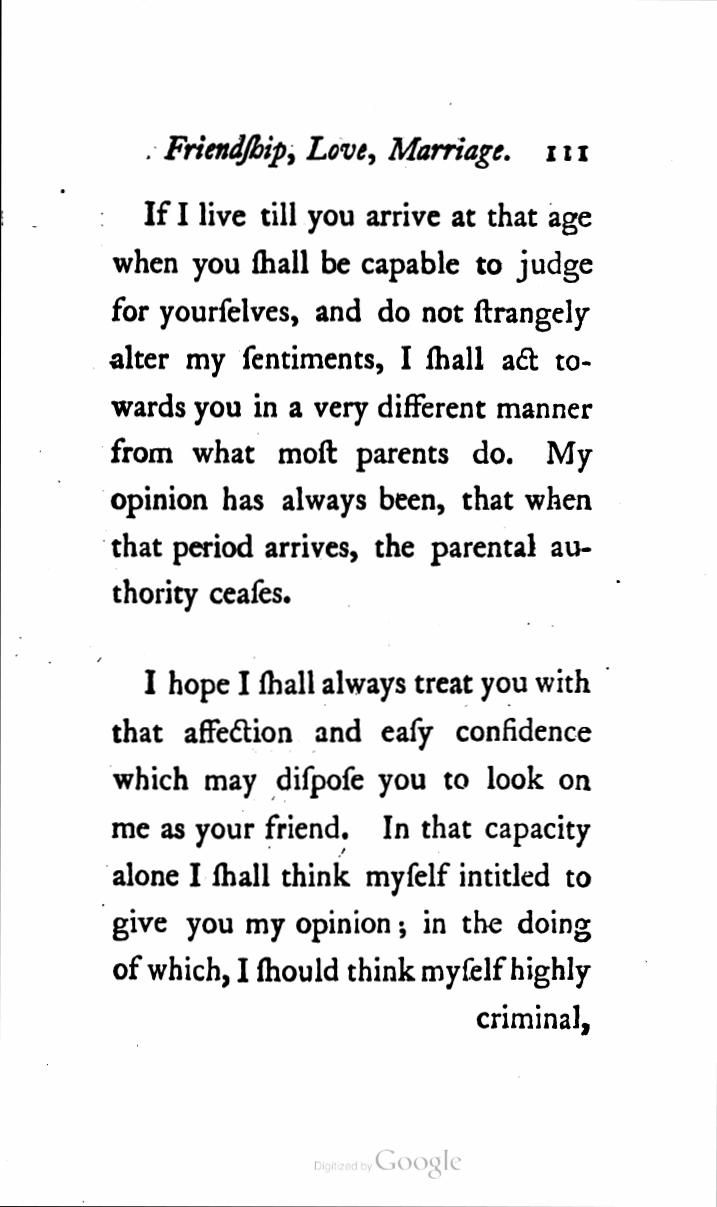catchword: (473, 1002, 593, 1037)
full_p: (107, 195, 595, 603)
header: (162, 130, 512, 165)
page_num: (545, 138, 593, 163)
top_p: (108, 667, 593, 992)
